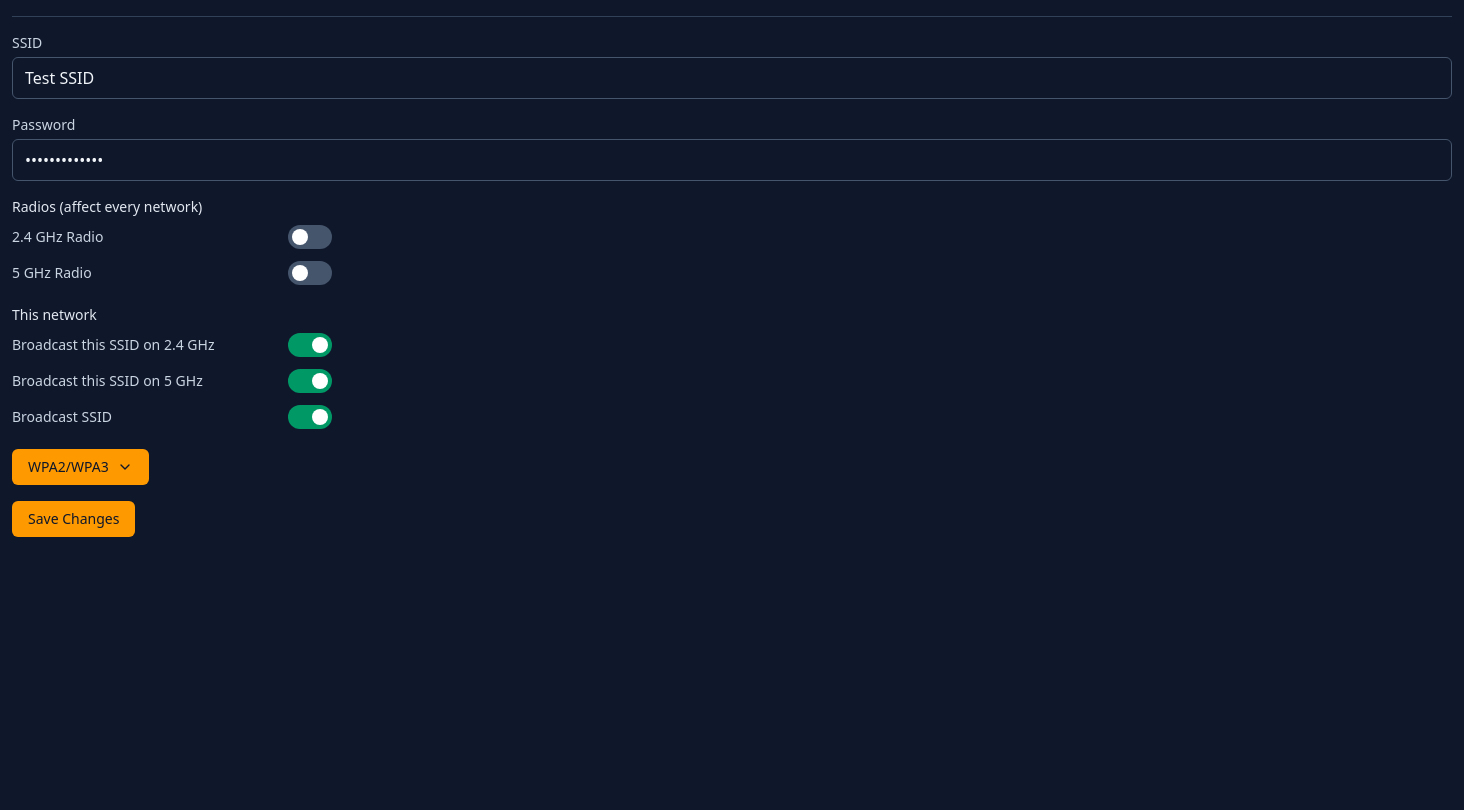
Test: WifiSettings › applies the strong warning even when both radios were already off
Replace the text in the field labelled "SSID" with "Renamed SSID" at x=732, y=78, box [12,57,1452,99]
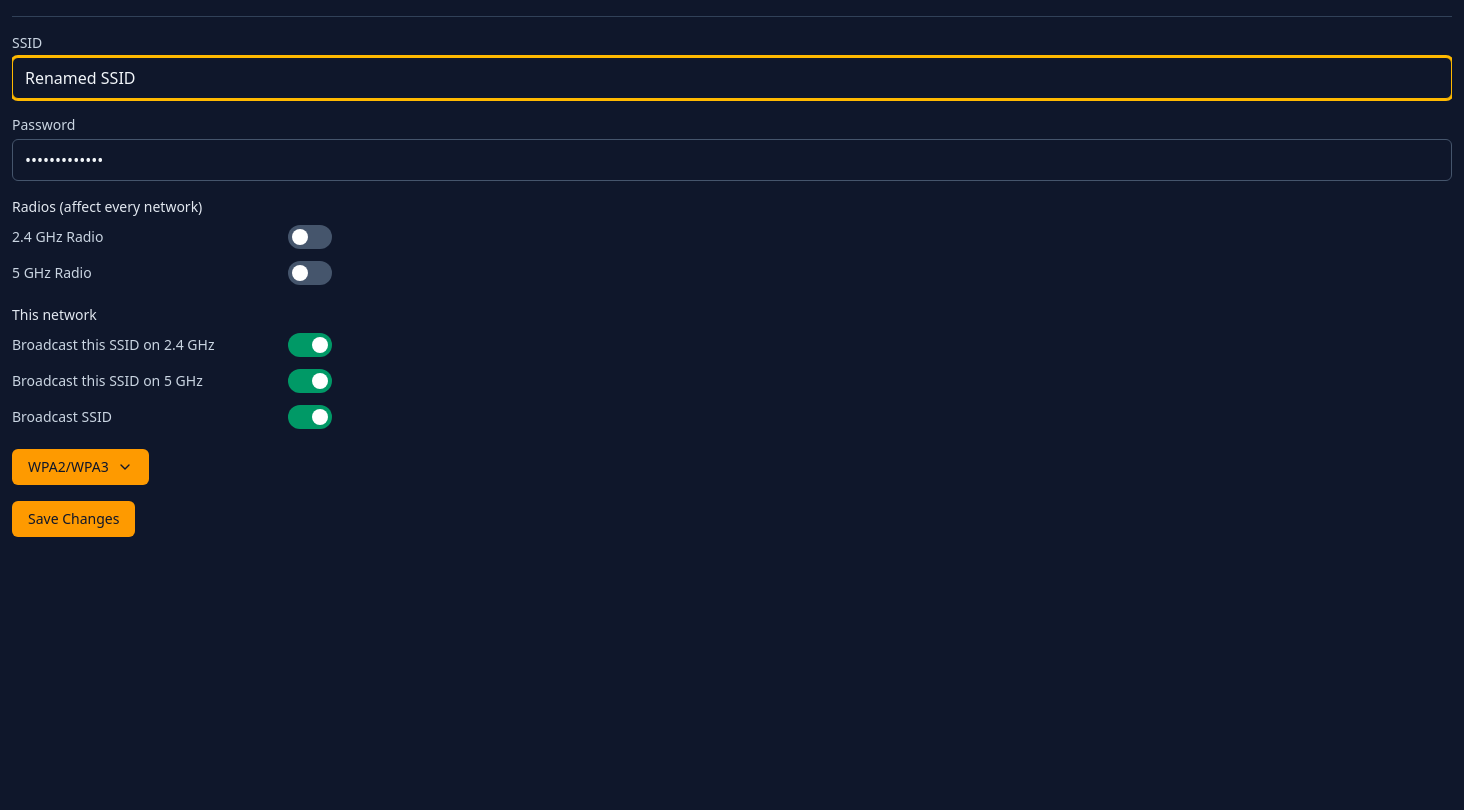
Click the button "Save Changes" at x=74, y=519, box [12,501,135,537]
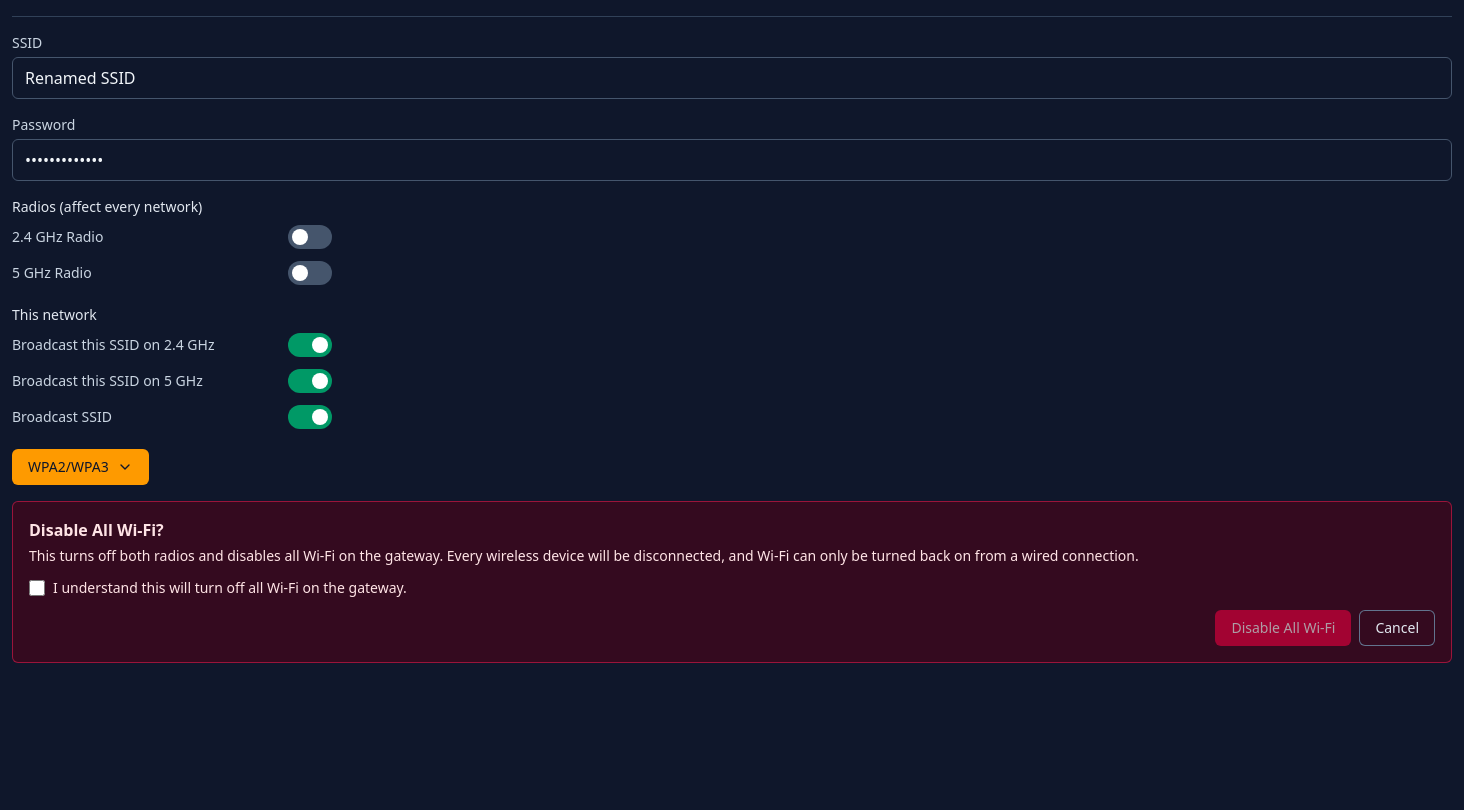
expect the message shows "disables all Wi-Fi on the gateway": met, box [29,546,1139,565]
